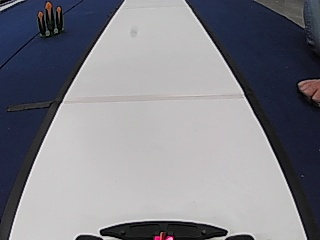corn: (34, 0, 66, 38)
